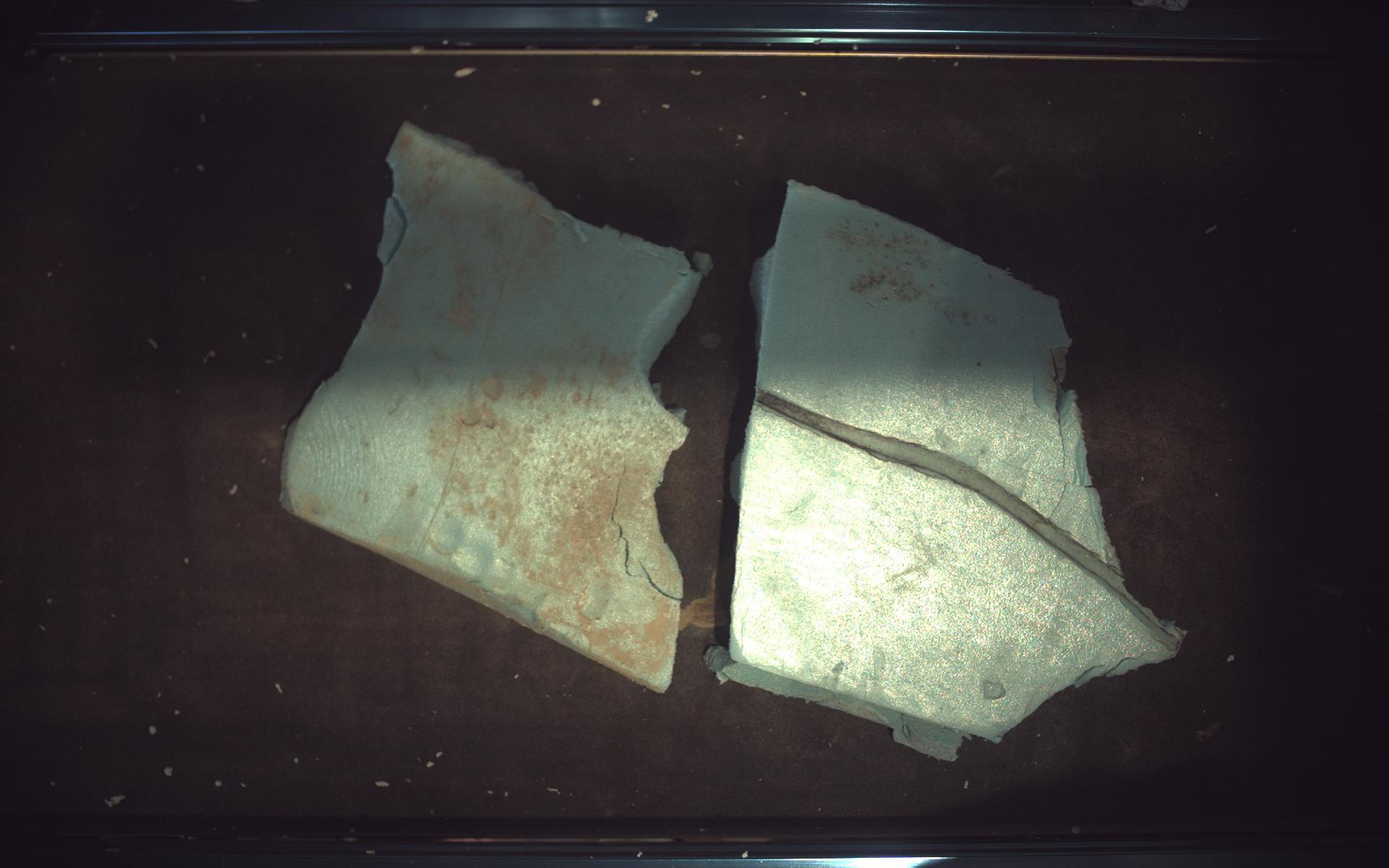foam: (708, 182, 1186, 760), (282, 124, 710, 693)
